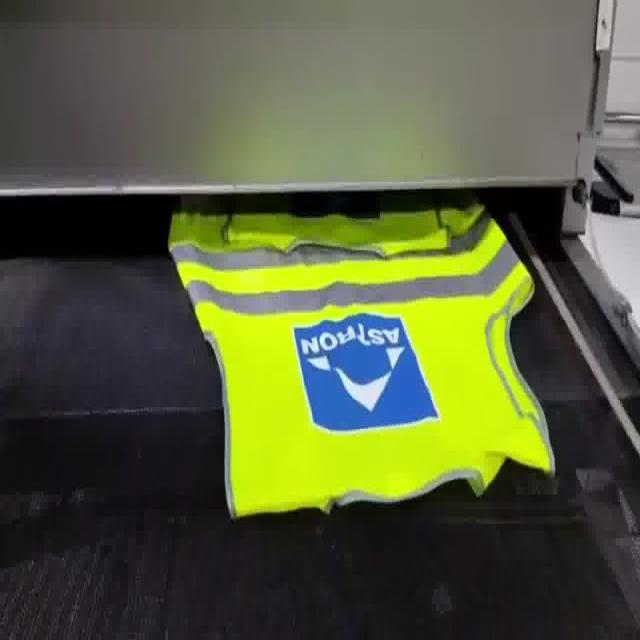glove: (167, 203, 561, 523)
